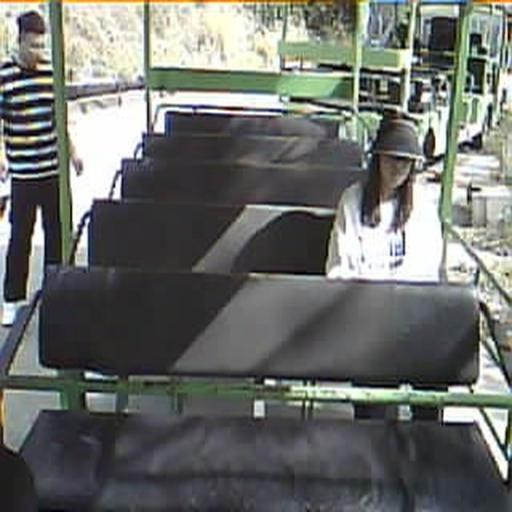persona: (324, 115, 446, 282)
